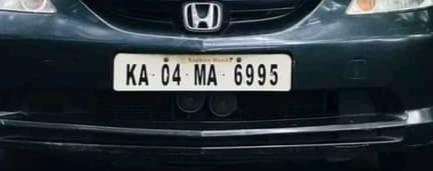0: (159, 60, 171, 87)
4: (171, 61, 184, 90)
5: (268, 62, 280, 87)
6: (231, 61, 244, 88)
9: (244, 60, 254, 87), (256, 61, 267, 85)
A: (206, 61, 219, 91), (137, 61, 150, 88)
K: (124, 61, 137, 86)
M: (191, 61, 207, 87)
